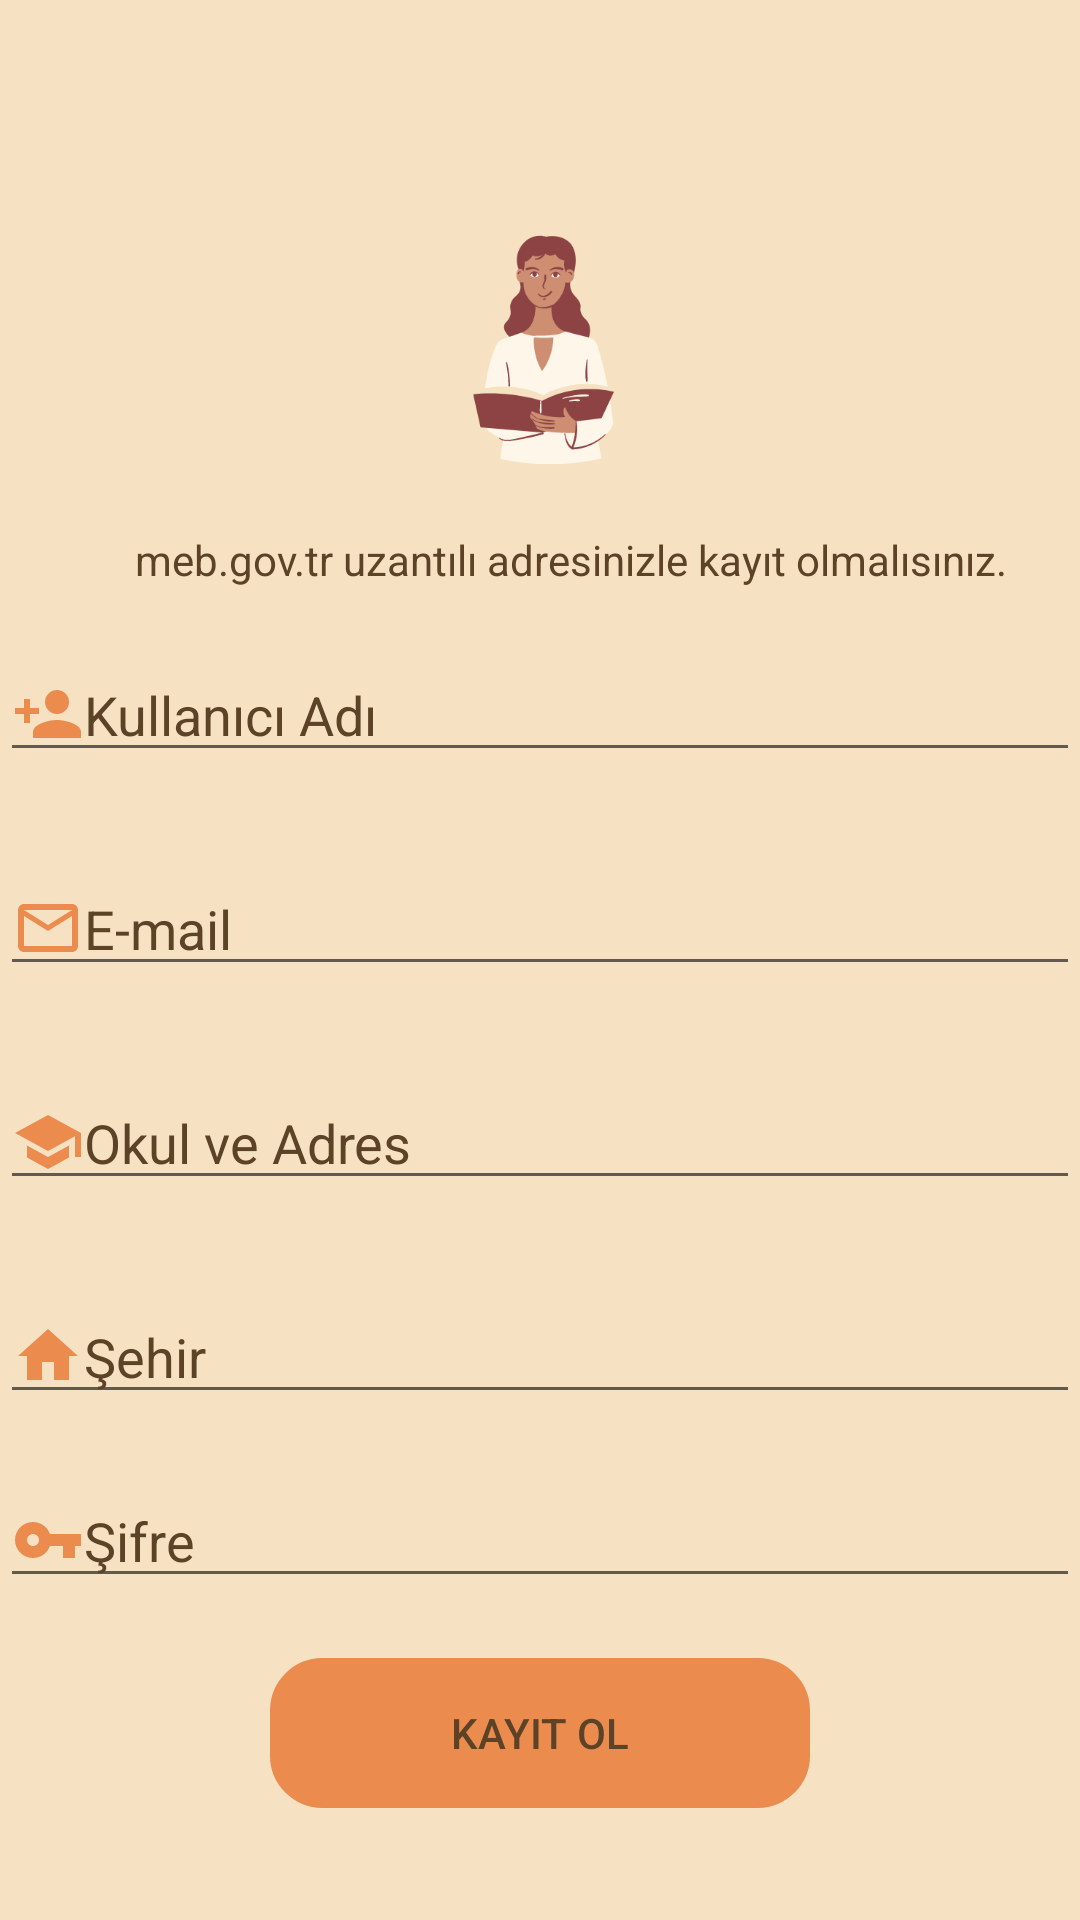

Where to tap for icons on this 1080 x 1920 app screen, as point (x, y):
teacher: point (543, 349)
